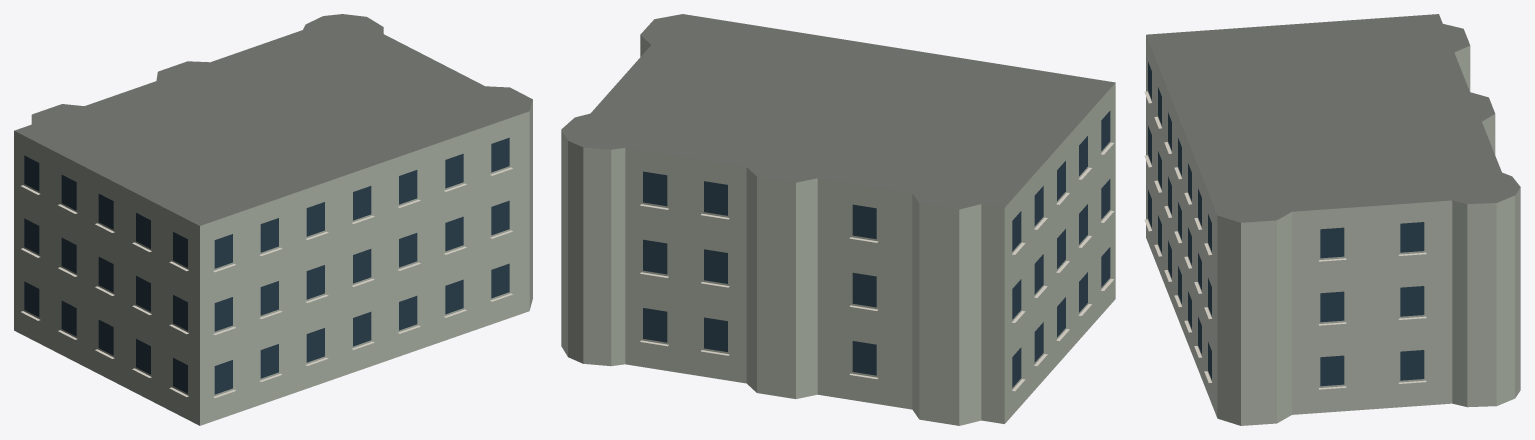
3 views of the same model, side by side, from view 1: azimuth 30°, elevation 25°; view 2: azimuth 150°, elevation 25°; view 3: azimuth 270°, elevation 25° (orthographic). The views are drawn at different scales.
Parts seen in each view (by area): view 1: Footprint 0, Inferred window bays, Window sills; view 2: Footprint 0, Inferred window bays, Window sills; view 3: Footprint 0, Inferred window bays, Window sills.
Part boxes in pixels (bbox=[...]): Footprint 0: bbox=[14, 14, 532, 425]; Inferred window bays: bbox=[24, 137, 509, 394]; Window sills: bbox=[21, 167, 512, 397]; Footprint 0: bbox=[561, 14, 1115, 425]; Inferred window bays: bbox=[643, 111, 1110, 387]; Window sills: bbox=[640, 142, 1114, 391]; Footprint 0: bbox=[1146, 14, 1520, 425]; Inferred window bays: bbox=[1148, 62, 1424, 386]; Window sills: bbox=[1144, 91, 1426, 389].
Size of the model in its own units: 25.51 by 11.53 by 19.36.
